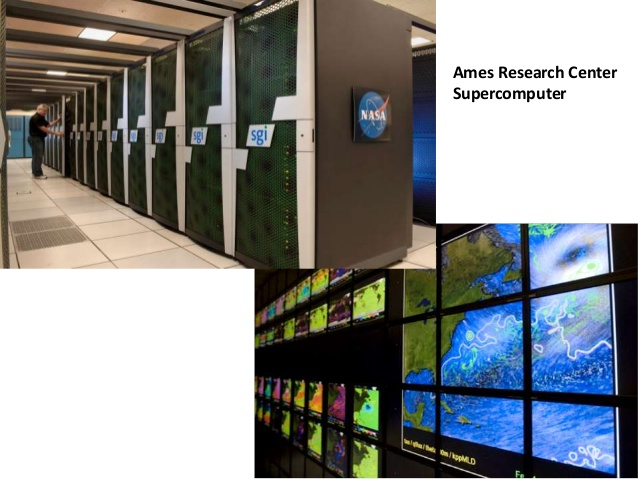NASA: (352, 85, 392, 141)
